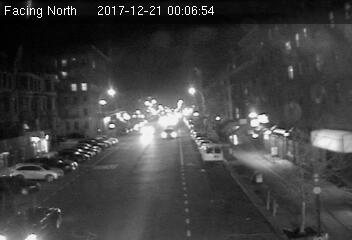car: (161, 126, 177, 138)
truck: (201, 145, 222, 162)
